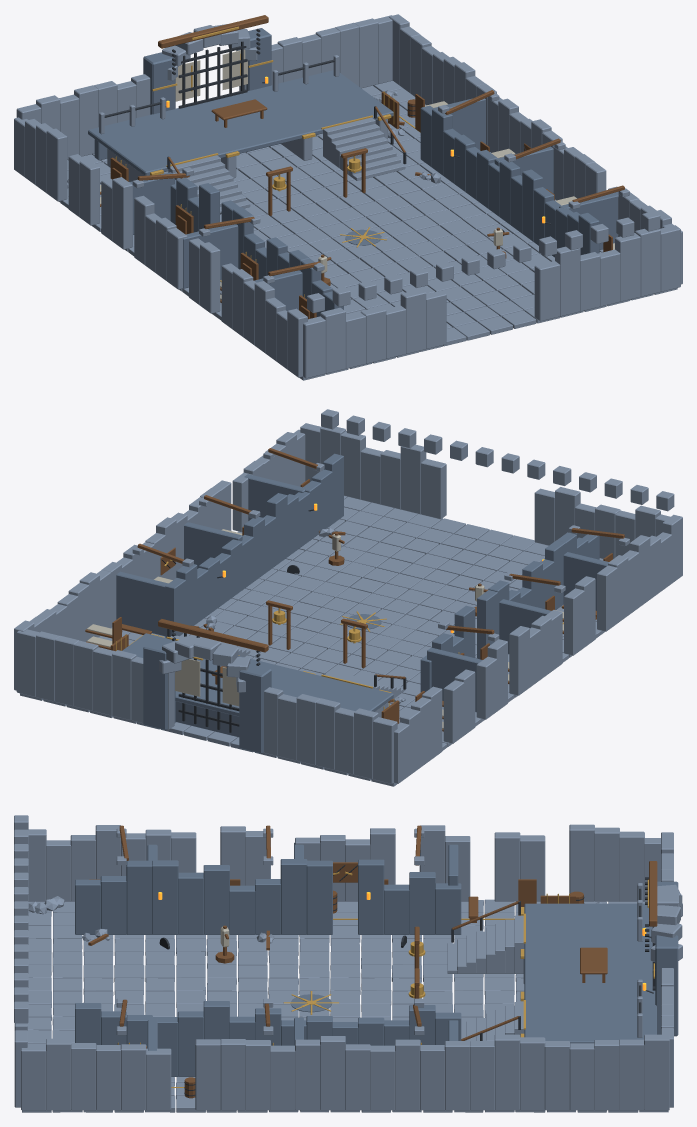
File: ruined_barracks.glb
3 views of the same model, one above another, from view 1: azimuth 30°, elevation 25°; view 2: azimuth 150°, elevation 25°; view 3: azimuth 270°, elevation 25° (orthographic). The views are drawn at different scales.
Visible parts, largest first — view 1: Rear raised platform, FrontWallR_00, Outer side wall_22, Barracks divider.001, FrontWallR_01, Outer side wall_16, FrontWallR_04, Outer side wall_08, FrontWallR_05, Gate pillar, FrontWallL_05, RearWallR_06 (+73 smaller); view 2: Rear raised platform, Barracks divider.005, Gate pillar, Gate pillar.001, Barracks divider.004, FrontWallR_00, Barracks divider.002, FrontWallR_01, RearWallL_04, RearWallL_00, Outer side wall_14, RearWallR_02 (+73 smaller); view 3: Rear raised platform, Inner barracks wall_02, Inner barracks wall_09, Inner barracks wall_08, Inner barracks wall_03, Outer side wall_25.001, Inner barracks wall_11, Outer side wall_12.001, Outer side wall_19.001, Outer side wall_23, Outer side wall_01.001, Outer side wall_22 (+76 smaller).
Part boxes in pixels (left/top/right/bottom): Rear raised platform: left=88, top=70, right=393, bottom=175; FrontWallR_00: left=534, top=261, right=560, bottom=321; Outer side wall_22: left=46, top=128, right=67, bottom=201; Barracks divider.001: left=183, top=224, right=238, bottom=288; FrontWallR_01: left=555, top=246, right=580, bottom=316; Outer side wall_16: left=112, top=177, right=132, bottom=249; FrontWallR_04: left=615, top=233, right=640, bottom=301; Outer side wall_08: left=200, top=242, right=220, bottom=313; FrontWallR_05: left=635, top=229, right=660, bottom=296; Gate pillar: left=143, top=52, right=175, bottom=114; FrontWallL_05: left=400, top=289, right=426, bottom=353; RearWallR_06: left=354, top=18, right=378, bottom=88; Rear raised platform: left=122, top=633, right=393, bottom=716; Barracks divider.005: left=116, top=571, right=168, bottom=636; Gate pillar: left=239, top=664, right=271, bottom=753; Gate pillar.001: left=143, top=640, right=175, bottom=730; Barracks divider.004: left=184, top=522, right=242, bottom=568; FrontWallR_00: left=421, top=459, right=446, bottom=519; Barracks divider.002: left=427, top=647, right=482, bottom=712; FrontWallR_01: left=400, top=444, right=426, bottom=514; RearWallL_04: left=296, top=694, right=320, bottom=765; RearWallL_00: left=373, top=717, right=397, bottom=783; Outer side wall_14: left=509, top=626, right=529, bottom=695; RearWallR_02: left=112, top=650, right=136, bottom=720; Rear raised platform: left=524, top=903, right=656, bottom=1043; Inner barracks wall_02: left=126, top=860, right=152, bottom=934; Inner barracks wall_09: left=306, top=860, right=332, bottom=934; Inner barracks wall_08: left=280, top=859, right=307, bottom=934; Inner barracks wall_03: left=152, top=860, right=178, bottom=934; Outer side wall_25.001: left=644, top=1034, right=669, bottom=1110; Inner barracks wall_11: left=358, top=859, right=384, bottom=934; Outer side wall_12.001: left=320, top=1036, right=345, bottom=1110; Outer side wall_19.001: left=494, top=1034, right=520, bottom=1110; Outer side wall_23: left=594, top=827, right=619, bottom=901; Outer side wall_01.001: left=46, top=1038, right=71, bottom=1110; Outer side wall_22: left=569, top=824, right=594, bottom=901.
Bounding box in the file's own units: 32.85 × 8.44 × 43.35.
